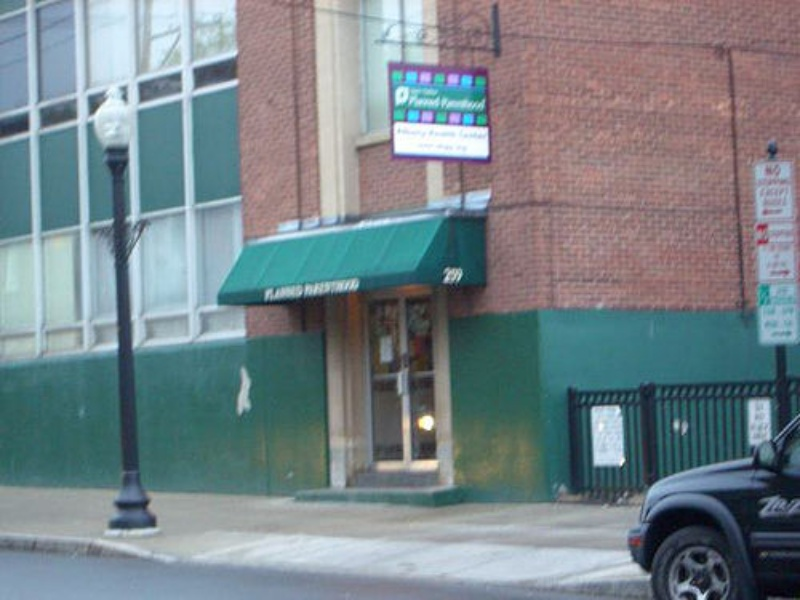car: (628, 406, 800, 600)
